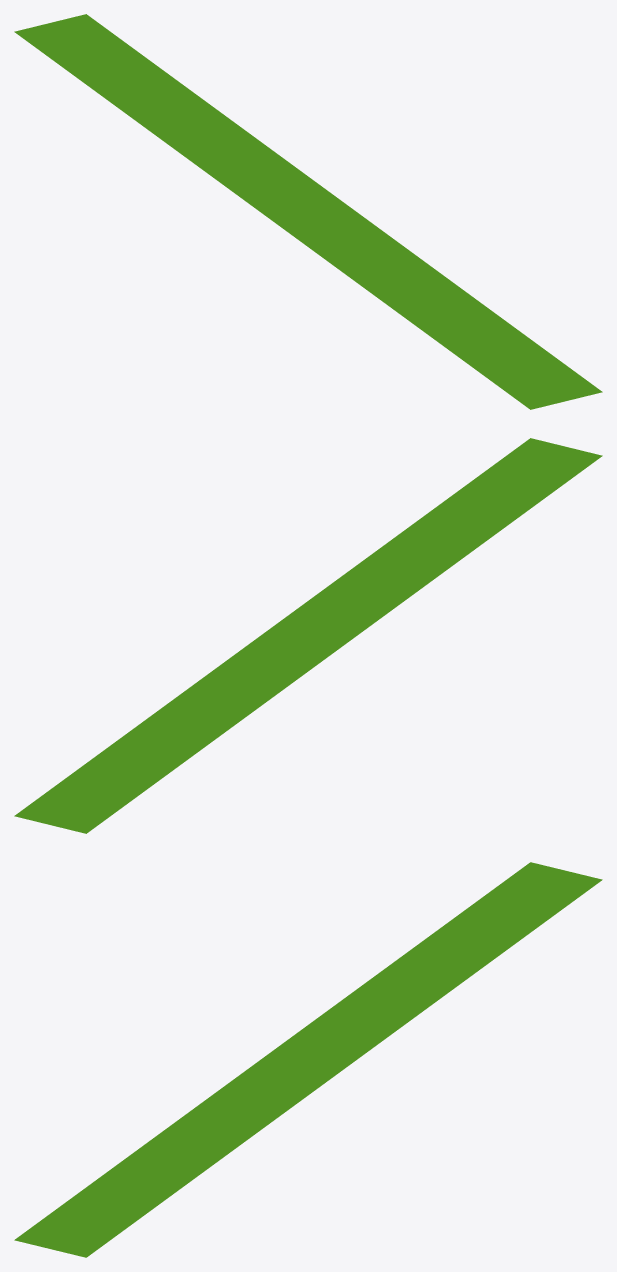
The model's file is cao_00.FBX.
3 renders of one model, top to bottom at view 1: azimuth 30°, elevation 25°; view 2: azimuth 150°, elevation 25°; view 3: azimuth 330°, elevation 25°, orthographic.
Visible parts, largest first — view 1: cao_00; view 2: cao_00; view 3: cao_00.
Part boxes in pixels (x1,y1,x2,y2): cao_00: (14, 14, 602, 409); cao_00: (14, 438, 602, 833); cao_00: (14, 862, 602, 1257).
Size of the model in its own units: 7.78 by 0.00688 by 96.14.
